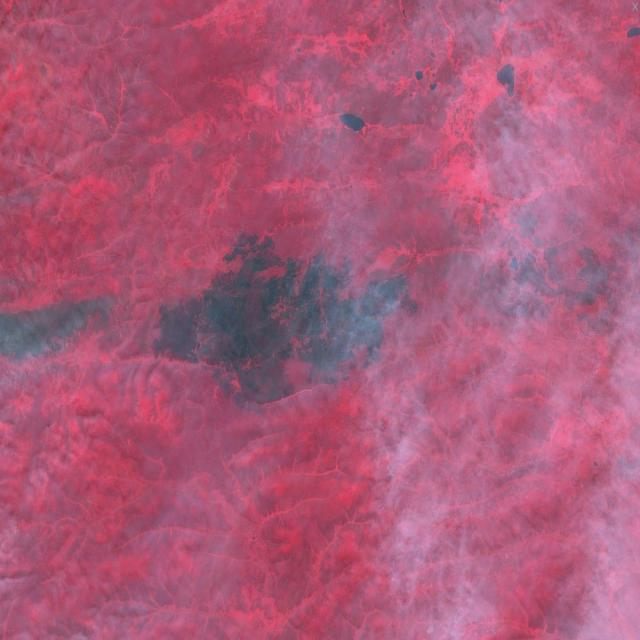fire: (378, 266, 423, 324)
